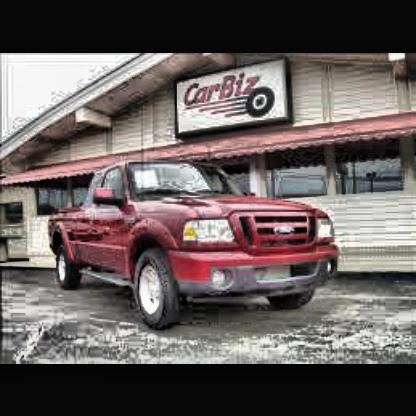Ford Ranger SuperCab 2011: (47, 156, 345, 331)
